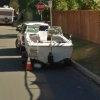Boat: (17, 25, 75, 73)
